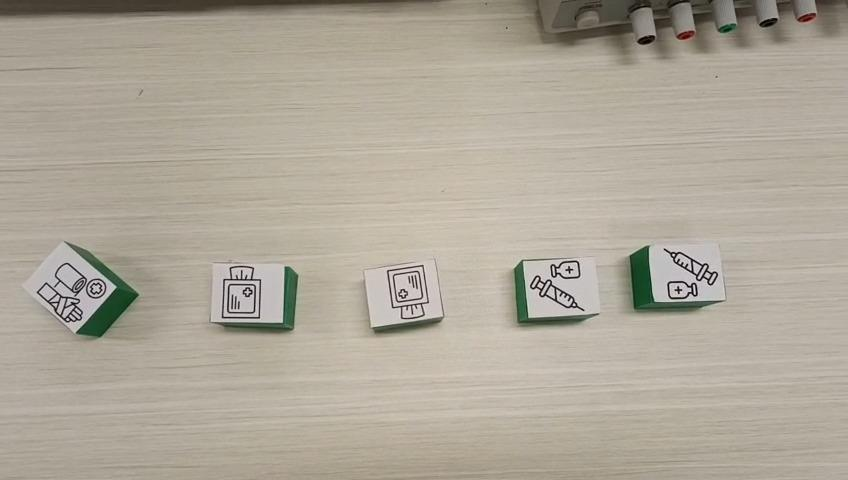Bandages: (21, 239, 138, 337)
Gauze: (209, 261, 297, 331), (362, 258, 446, 330)
antiseptic cream: (627, 239, 727, 311), (513, 256, 601, 324)
